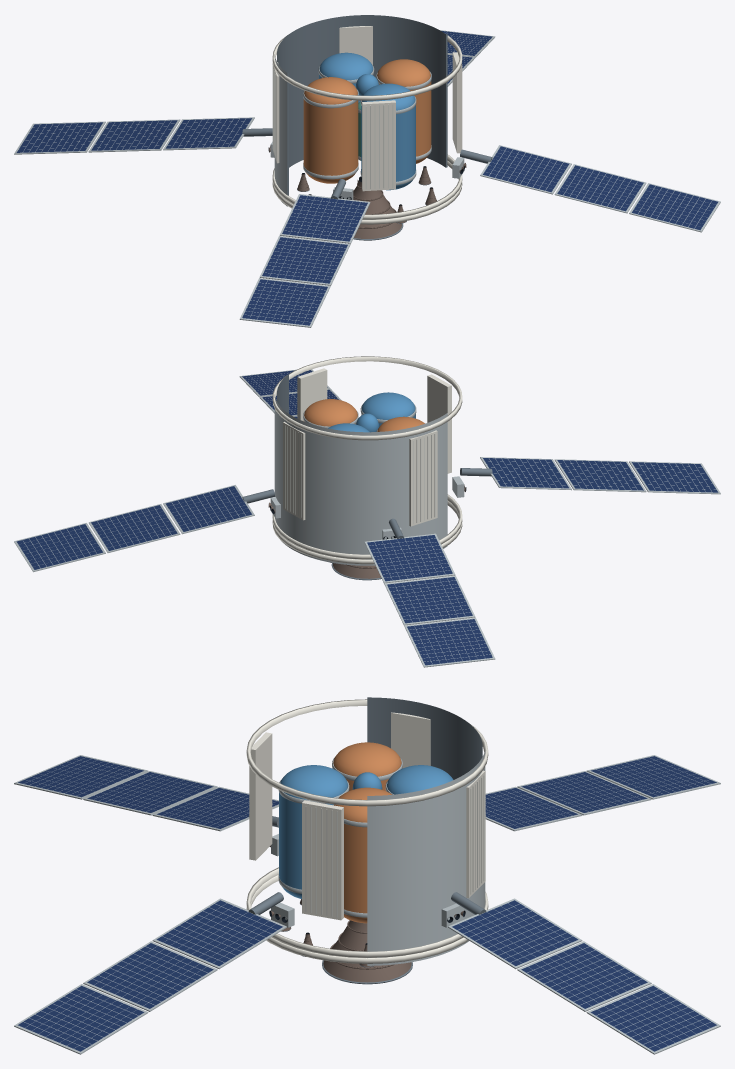
The model's file is orion_esm_cutaway.glb.
The picture shows the model from 3 angles, top to bottom: view 1: azimuth 30°, elevation 25°; view 2: azimuth 150°, elevation 25°; view 3: azimuth 270°, elevation 25°; orthographic projection. The views are drawn at different scales.
Parts seen in each view (by area): view 1: orion_esm.mesh_Machined_steel, orion_esm.cutaway.propellant_04.mesh_Cutaway_propellant, orion_esm.mesh_Warm_white_enamel, orion_esm.radiator_04.mesh_Warm_white_enamel, orion_esm.wing_04.panel_01.panel_02.cells.mesh_Indigo_solar_, orion_esm.wing_04.panel_01.panel_02.panel_03.cells.mesh_Indi, orion_esm.wing_04.panel_01.cells.mesh_Indigo_solar_cells, orion_esm.wing_01.panel_01.panel_02.cells.mesh_Indigo_solar_, orion_esm.wing_01.panel_01.cells.mesh_Indigo_solar_cells, orion_esm.wing_01.panel_01.panel_02.panel_03.cells.mesh_Indi, orion_esm.cutaway.propellant_02.mesh_Cutaway_propellant, orion_esm.cutaway.propellant_01.mesh_Cutaway_liquid_oxygen (+19 smaller); view 2: orion_esm.mesh_Satin_aluminum, orion_esm.mesh_Warm_white_enamel, orion_esm.wing_03.panel_01.panel_02.panel_03.cells.mesh_Indi, orion_esm.wing_03.panel_01.cells.mesh_Indigo_solar_cells, orion_esm.wing_03.panel_01.panel_02.cells.mesh_Indigo_solar_, orion_esm.radiator_03.mesh_Warm_white_enamel, orion_esm.wing_02.panel_01.panel_02.cells.mesh_Indigo_solar_, orion_esm.wing_02.panel_01.panel_02.panel_03.cells.mesh_Indi, orion_esm.wing_02.panel_01.cells.mesh_Indigo_solar_cells, orion_esm.wing_04.panel_01.panel_02.panel_03.cells.mesh_Indi, orion_esm.wing_04.panel_01.panel_02.cells.mesh_Indigo_solar_, orion_esm.wing_04.panel_01.cells.mesh_Indigo_solar_cells (+18 smaller); view 3: orion_esm.mesh_Satin_aluminum, orion_esm.mesh_Warm_white_enamel, orion_esm.mesh_Machined_steel, orion_esm.radiator_01.mesh_Warm_white_enamel, orion_esm.wing_01.panel_01.panel_02.panel_03.cells.mesh_Indi, orion_esm.wing_02.panel_01.panel_02.panel_03.cells.mesh_Indi, orion_esm.wing_01.panel_01.cells.mesh_Indigo_solar_cells, orion_esm.wing_02.panel_01.cells.mesh_Indigo_solar_cells, orion_esm.wing_01.panel_01.panel_02.cells.mesh_Indigo_solar_, orion_esm.wing_02.panel_01.panel_02.cells.mesh_Indigo_solar_, orion_esm.cutaway.propellant_01.mesh_Cutaway_liquid_oxygen, orion_esm.cutaway.propellant_02.mesh_Cutaway_propellant (+26 smaller).
Part boxes in pixels (x1=…): orion_esm.mesh_Machined_steel: x1=277, y1=15, x2=447, y2=206; orion_esm.cutaway.propellant_04.mesh_Cutaway_propellant: x1=303, y1=77, x2=358, y2=183; orion_esm.mesh_Warm_white_enamel: x1=272, y1=35, x2=462, y2=224; orion_esm.radiator_04.mesh_Warm_white_enamel: x1=362, y1=100, x2=395, y2=191; orion_esm.wing_04.panel_01.panel_02.cells.mesh_Indigo_solar_: x1=262, y1=237, x2=347, y2=283; orion_esm.wing_04.panel_01.panel_02.panel_03.cells.mesh_Indi: x1=242, y1=279, x2=327, y2=325; orion_esm.wing_04.panel_01.cells.mesh_Indigo_solar_cells: x1=282, y1=195, x2=367, y2=241; orion_esm.wing_01.panel_01.panel_02.cells.mesh_Indigo_solar_: x1=557, y1=165, x2=643, y2=211; orion_esm.wing_01.panel_01.cells.mesh_Indigo_solar_cells: x1=483, y1=146, x2=569, y2=192; orion_esm.wing_01.panel_01.panel_02.panel_03.cells.mesh_Indi: x1=632, y1=184, x2=717, y2=230; orion_esm.cutaway.propellant_02.mesh_Cutaway_propellant: x1=377, y1=59, x2=431, y2=163; orion_esm.cutaway.propellant_01.mesh_Cutaway_liquid_oxygen: x1=361, y1=83, x2=415, y2=190; orion_esm.mesh_Satin_aluminum: x1=274, y1=394, x2=447, y2=565; orion_esm.mesh_Warm_white_enamel: x1=272, y1=356, x2=462, y2=564; orion_esm.wing_03.panel_01.panel_02.panel_03.cells.mesh_Indi: x1=407, y1=619, x2=492, y2=665; orion_esm.wing_03.panel_01.cells.mesh_Indigo_solar_cells: x1=367, y1=535, x2=452, y2=581; orion_esm.wing_03.panel_01.panel_02.cells.mesh_Indigo_solar_: x1=387, y1=577, x2=472, y2=623; orion_esm.radiator_03.mesh_Warm_white_enamel: x1=409, y1=430, x2=437, y2=526; orion_esm.wing_02.panel_01.panel_02.cells.mesh_Indigo_solar_: x1=91, y1=505, x2=177, y2=550; orion_esm.wing_02.panel_01.panel_02.panel_03.cells.mesh_Indi: x1=16, y1=524, x2=102, y2=569; orion_esm.wing_02.panel_01.cells.mesh_Indigo_solar_cells: x1=165, y1=486, x2=251, y2=531; orion_esm.wing_04.panel_01.panel_02.panel_03.cells.mesh_Indi: x1=632, y1=462, x2=718, y2=492; orion_esm.wing_04.panel_01.panel_02.cells.mesh_Indigo_solar_: x1=557, y1=460, x2=643, y2=490; orion_esm.wing_04.panel_01.cells.mesh_Indigo_solar_cells: x1=483, y1=458, x2=568, y2=488; orion_esm.mesh_Satin_aluminum: x1=367, y1=750, x2=485, y2=965; orion_esm.mesh_Warm_white_enamel: x1=246, y1=699, x2=488, y2=963; orion_esm.mesh_Machined_steel: x1=367, y1=697, x2=482, y2=779; orion_esm.radiator_01.mesh_Warm_white_enamel: x1=302, y1=800, x2=343, y2=920; orion_esm.wing_01.panel_01.panel_02.panel_03.cells.mesh_Indi: x1=18, y1=985, x2=144, y2=1051; orion_esm.wing_02.panel_01.panel_02.panel_03.cells.mesh_Indi: x1=590, y1=985, x2=716, y2=1051; orion_esm.wing_01.panel_01.cells.mesh_Indigo_solar_cells: x1=156, y1=900, x2=282, y2=965; orion_esm.wing_02.panel_01.cells.mesh_Indigo_solar_cells: x1=452, y1=900, x2=578, y2=965; orion_esm.wing_01.panel_01.panel_02.cells.mesh_Indigo_solar_: x1=87, y1=943, x2=213, y2=1008; orion_esm.wing_02.panel_01.panel_02.cells.mesh_Indigo_solar_: x1=521, y1=943, x2=647, y2=1008; orion_esm.cutaway.propellant_01.mesh_Cutaway_liquid_oxygen: x1=279, y1=765, x2=347, y2=898; orion_esm.cutaway.propellant_02.mesh_Cutaway_propellant: x1=334, y1=787, x2=391, y2=923.
Size of the model in its own units: 12.4 by 4.24 by 12.4.
